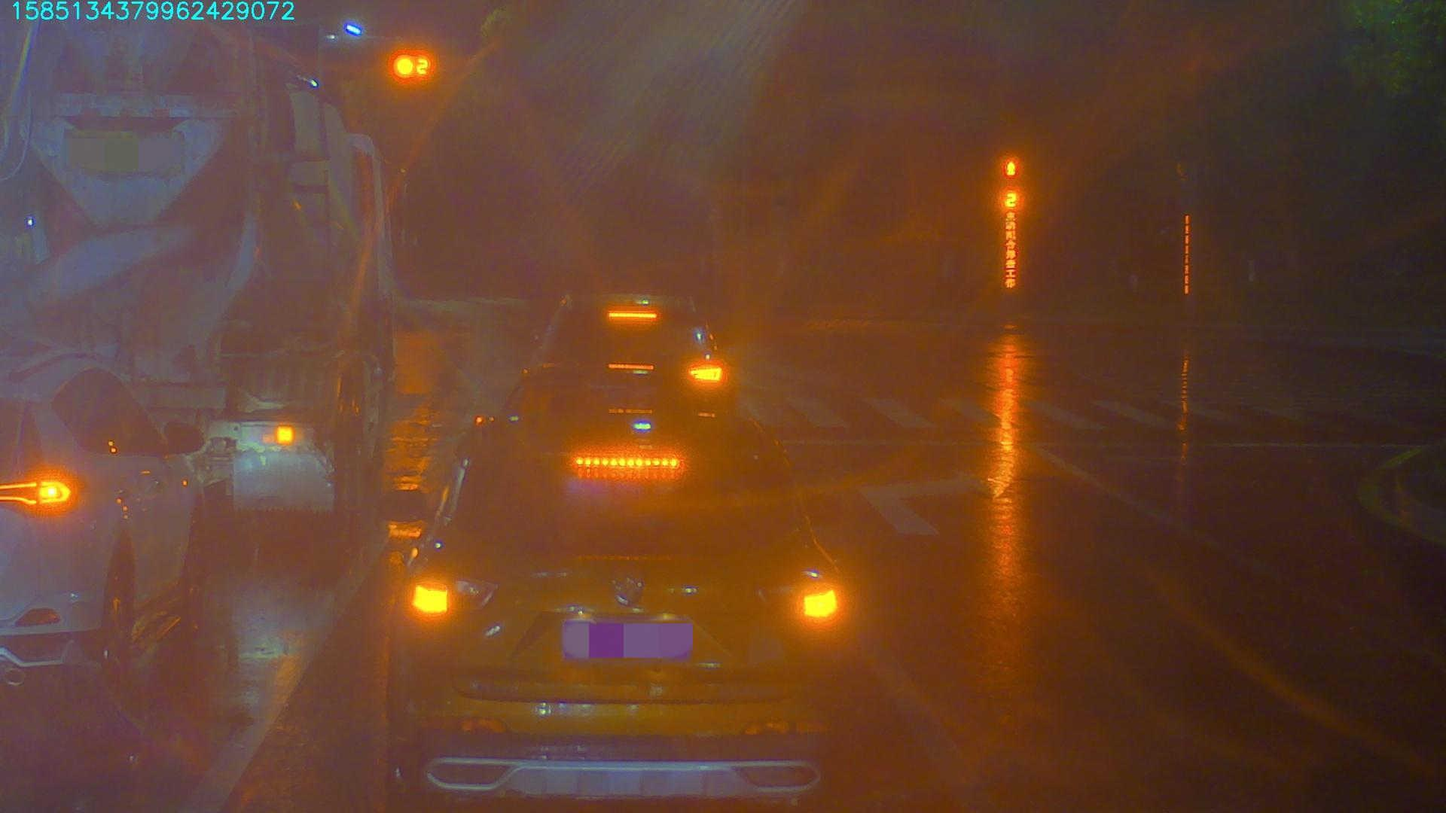red: (383, 47, 441, 81)
